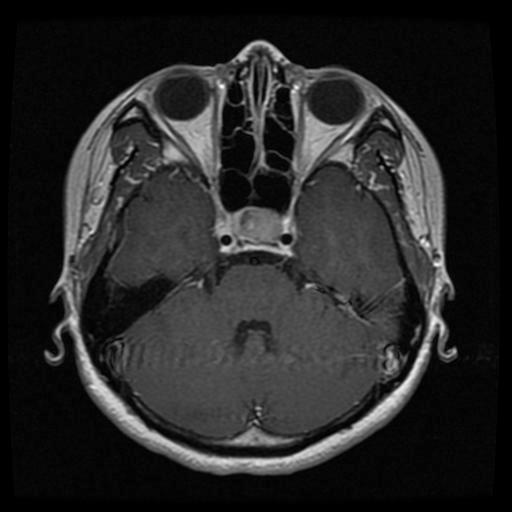Tumour-Pituitary: (212, 211, 297, 258)
